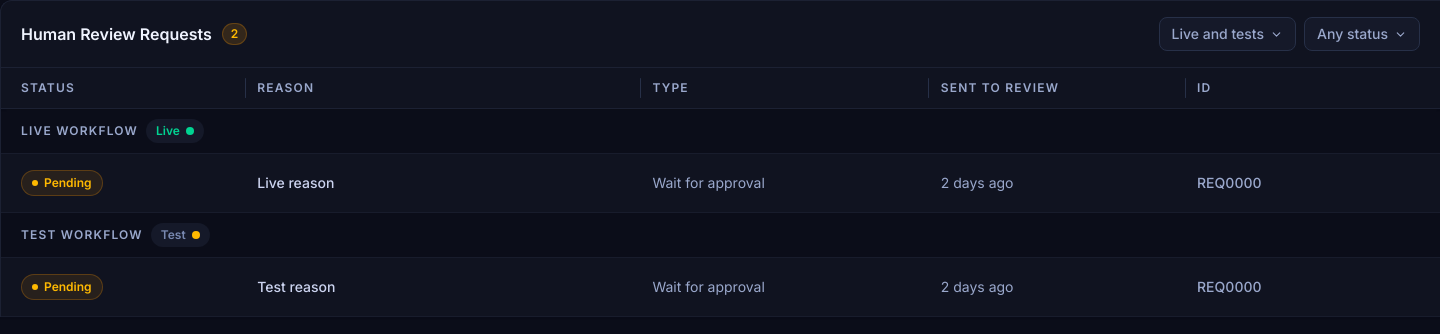
Test: HumanReviewTable › filtering › hides test-environment rows when test filter is deselected
The image size is (1440, 334).
Click the button "Live and tests". click: {"x": 1227, "y": 34}
box: [1158,17,1296,51]
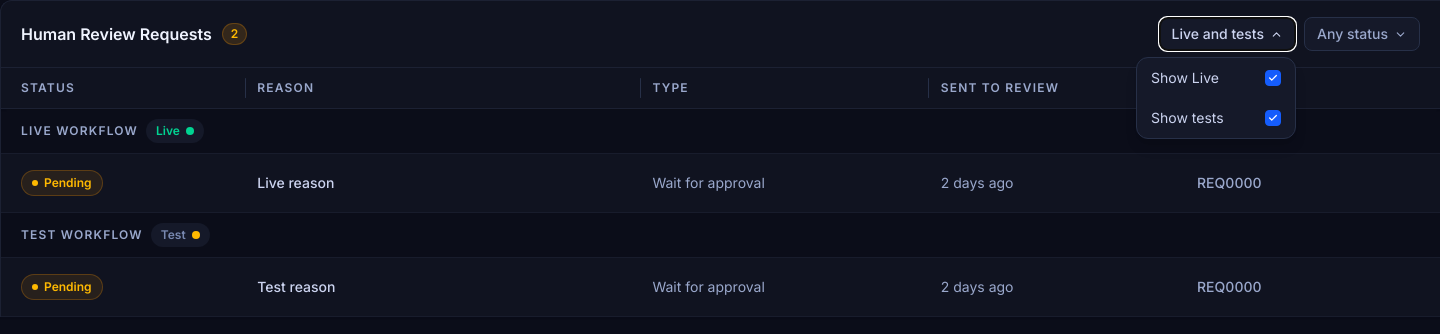
Click the button "Show tests". click: {"x": 1216, "y": 118}
box: [1137,98,1295,138]
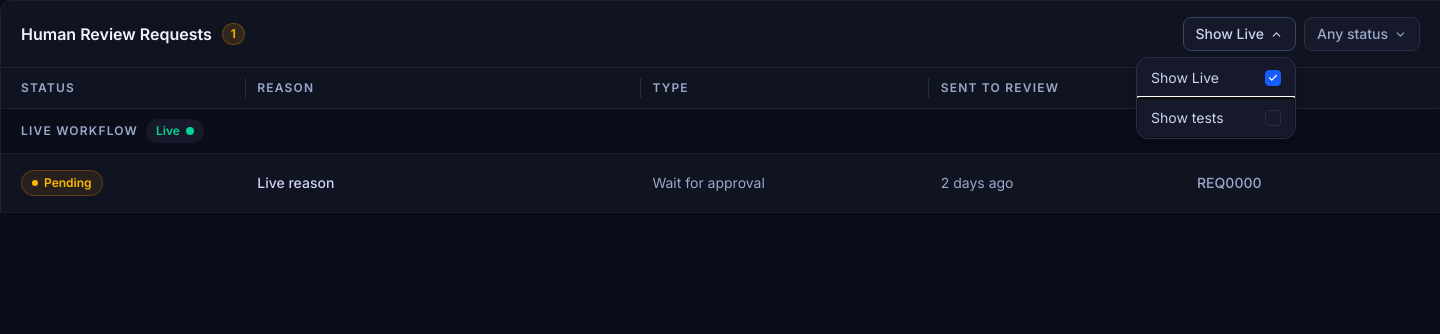
Check: the text "Live Workflow" is shown, box [21,123,138,139]
Check: the text "Test Workflow" is gone
